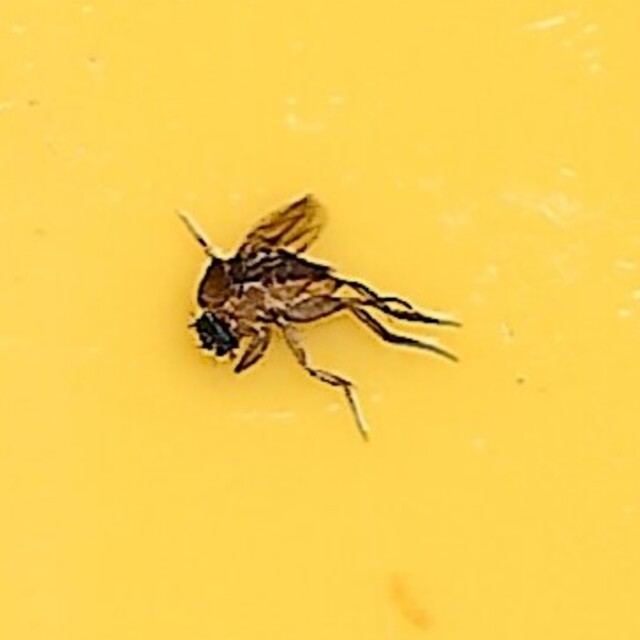Brachycera: (176, 196, 464, 444)
